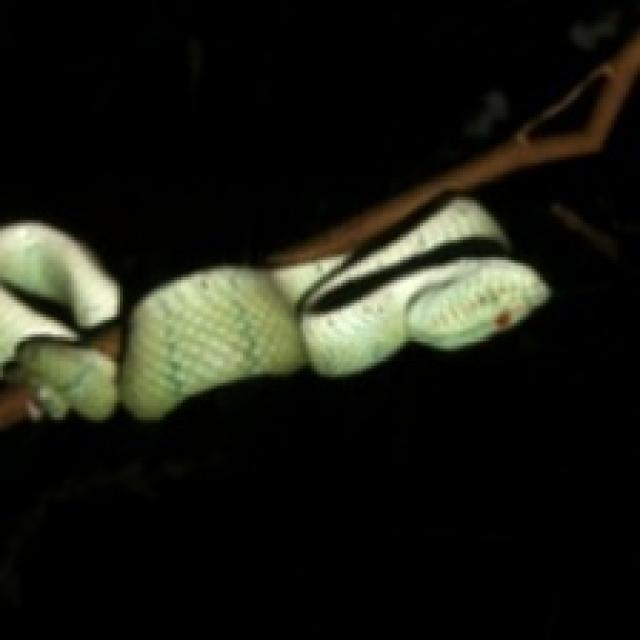north ph temple pitviper: (0, 197, 546, 417)
